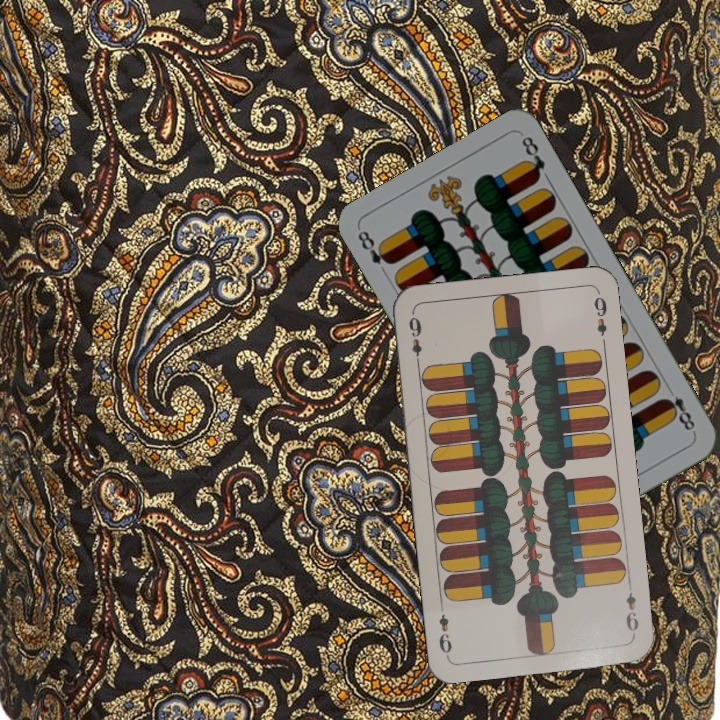E8: (353, 226, 396, 268), (659, 391, 698, 436)
E9: (404, 310, 424, 369), (622, 588, 642, 634)
